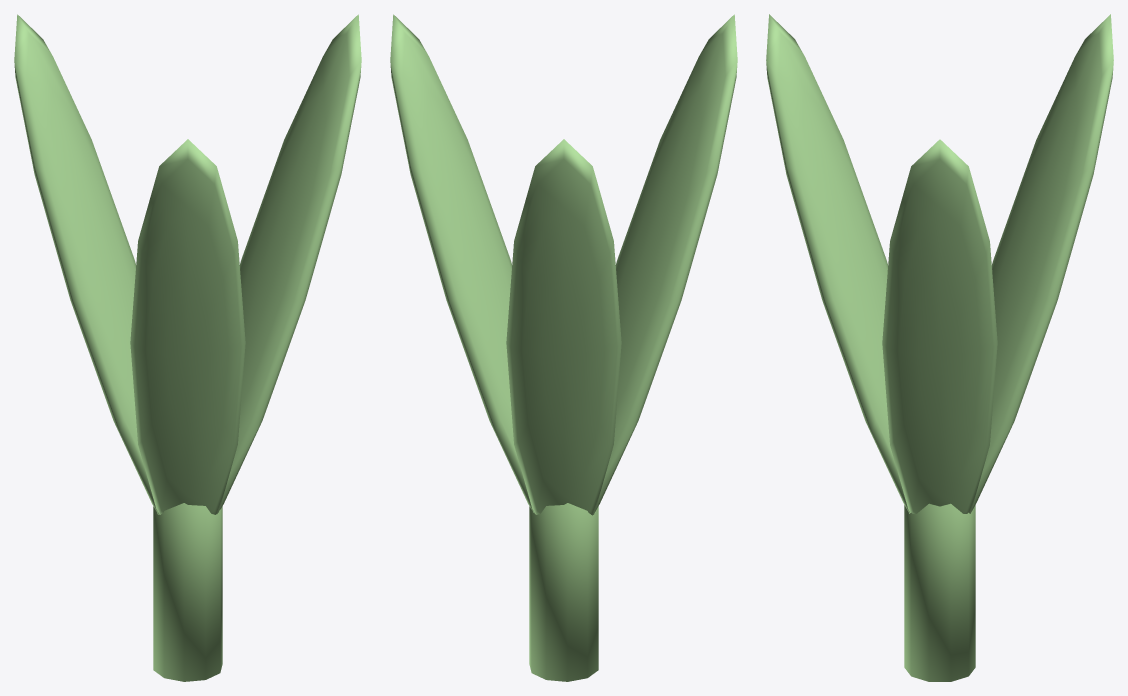
Rendered from VCrop_Rice_2.fbx.
The picture shows the model from 3 angles, left to right: view 1: azimuth 30°, elevation 25°; view 2: azimuth 150°, elevation 25°; view 3: azimuth 270°, elevation 25°; orthographic projection.
Parts seen in each view (by area): view 1: VCrop_Rice_2; view 2: VCrop_Rice_2; view 3: VCrop_Rice_2.
Part boxes in pixels (bbox=[...]): VCrop_Rice_2: bbox=[14, 14, 361, 681]; VCrop_Rice_2: bbox=[390, 14, 737, 681]; VCrop_Rice_2: bbox=[766, 14, 1113, 681].
Size of the model in its own units: 0.0709 by 0.1522 by 0.0784.
